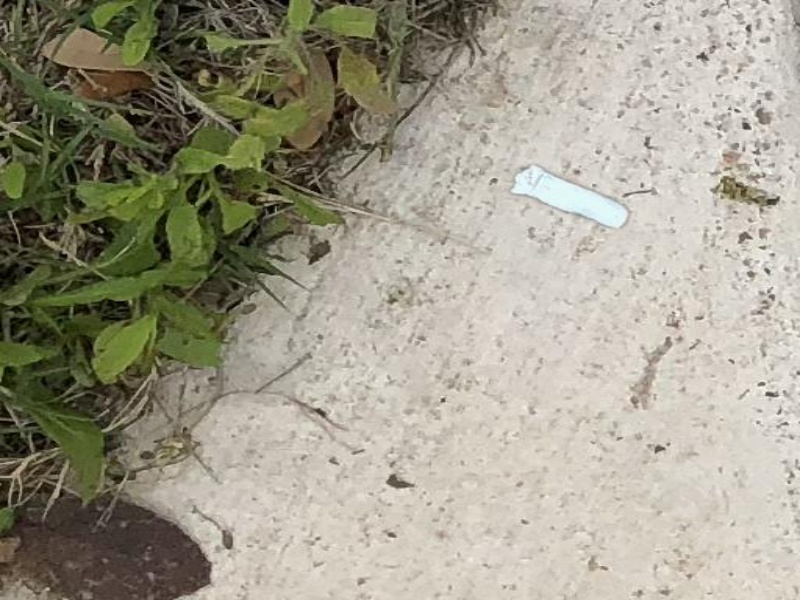cig: (507, 161, 637, 233)
